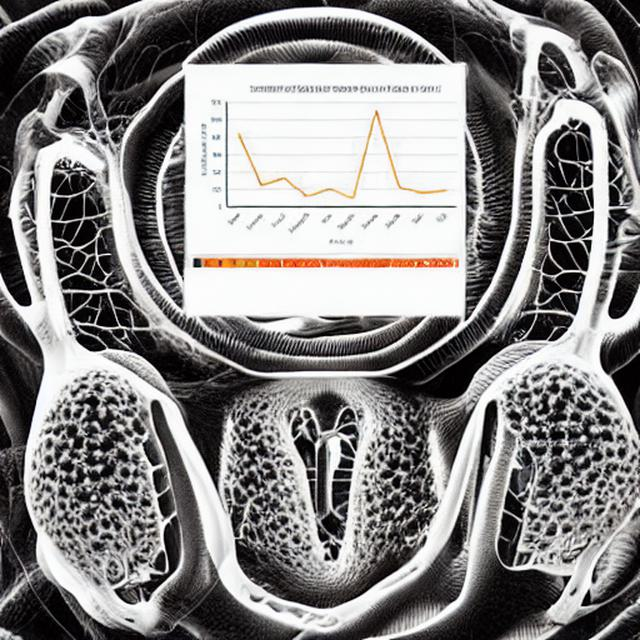Graph: (192, 78, 465, 255)
